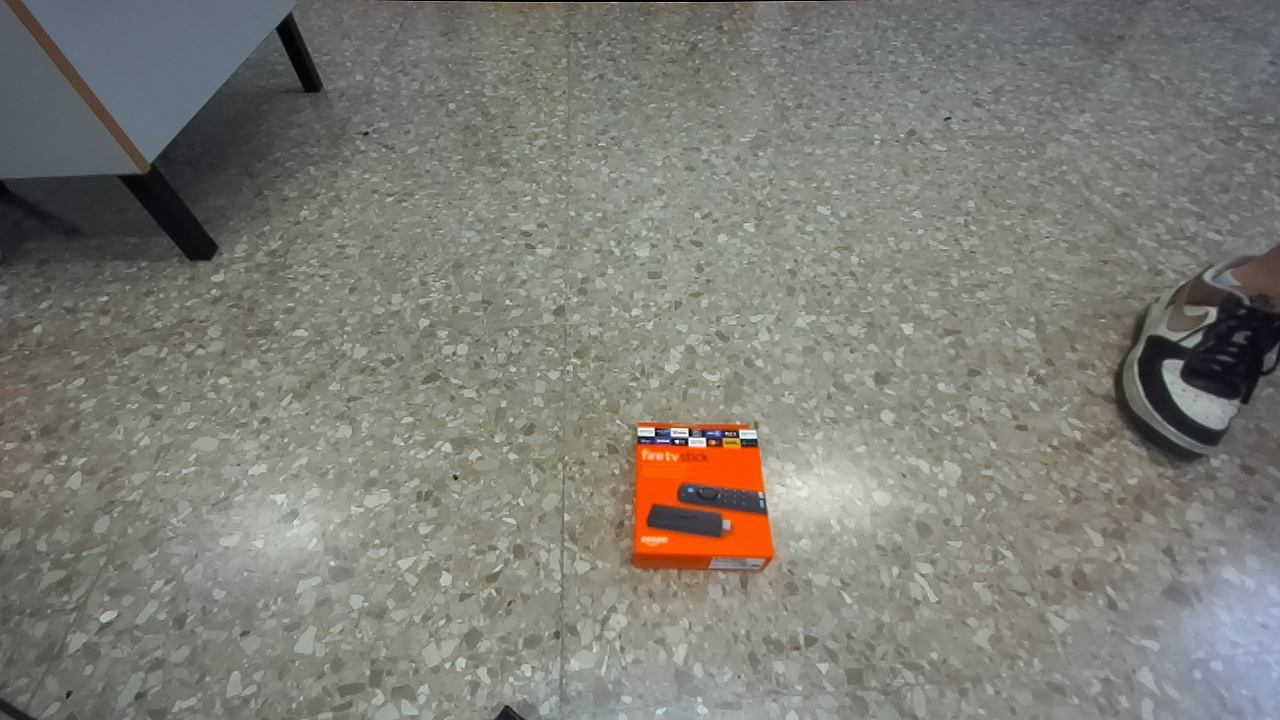caja_manguera: (632, 422, 773, 571)
